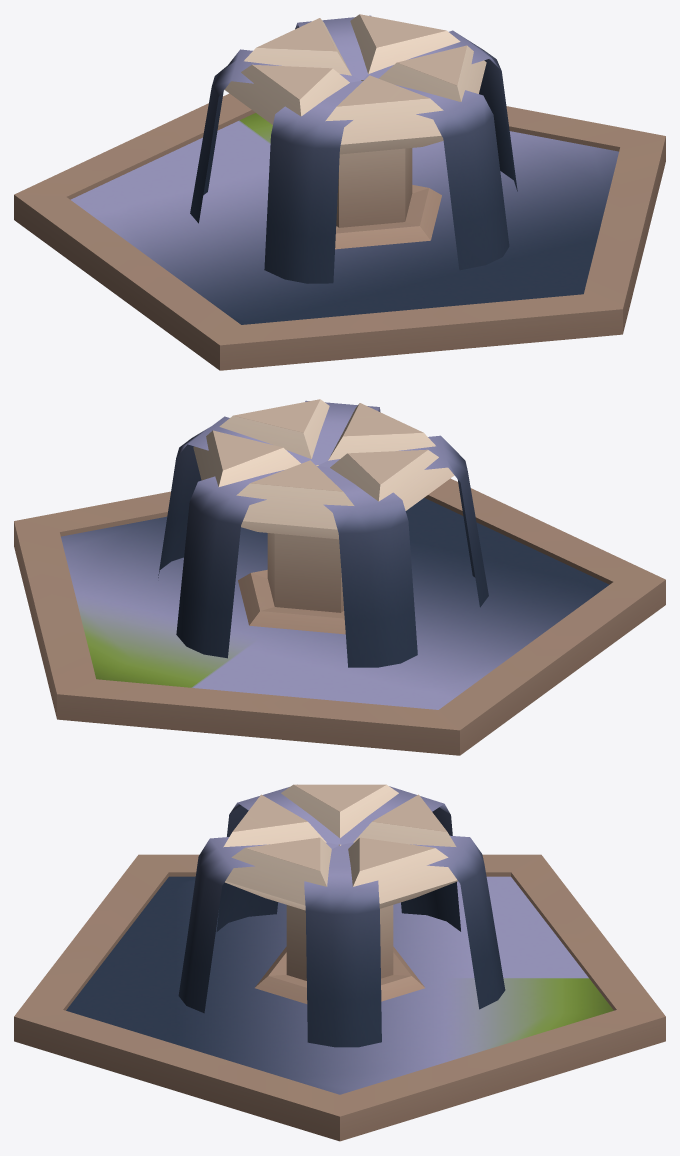
File: Fountain02.fbx
The picture shows the model from 3 angles, top to bottom: view 1: azimuth 30°, elevation 25°; view 2: azimuth 150°, elevation 25°; view 3: azimuth 270°, elevation 25°; orthographic projection. The views are drawn at different scales.
Visible parts, largest first — view 1: Fountain02; view 2: Fountain02; view 3: Fountain02.
Part boxes in pixels (x1,y1,x2,y2): Fountain02: (14, 14, 665, 370); Fountain02: (14, 399, 665, 755); Fountain02: (14, 784, 665, 1141).
Size of the model in its own units: 905 by 275 by 951.
